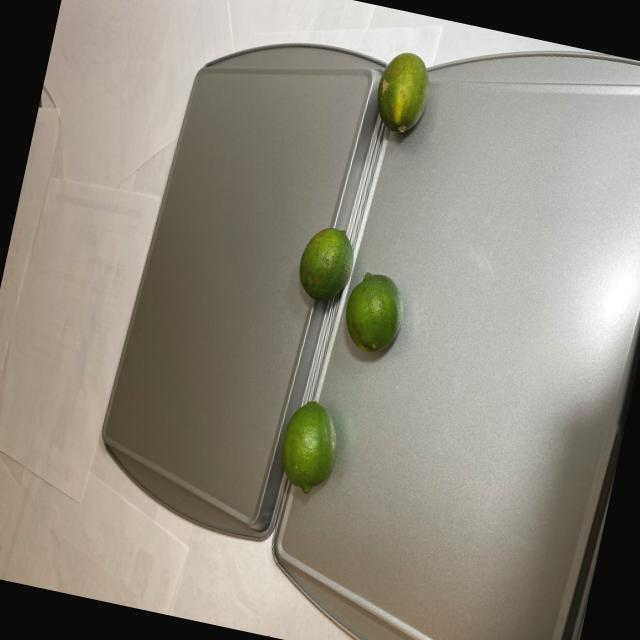lemon: (253, 33, 455, 503)
